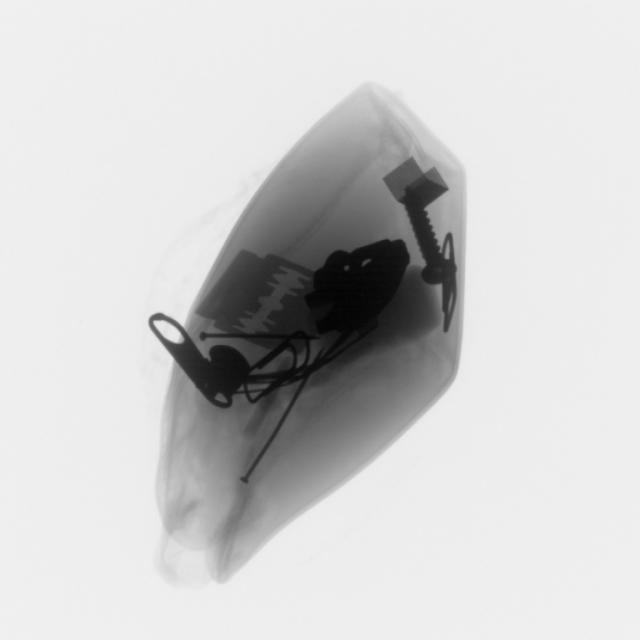GUN: (199, 203, 329, 391)
